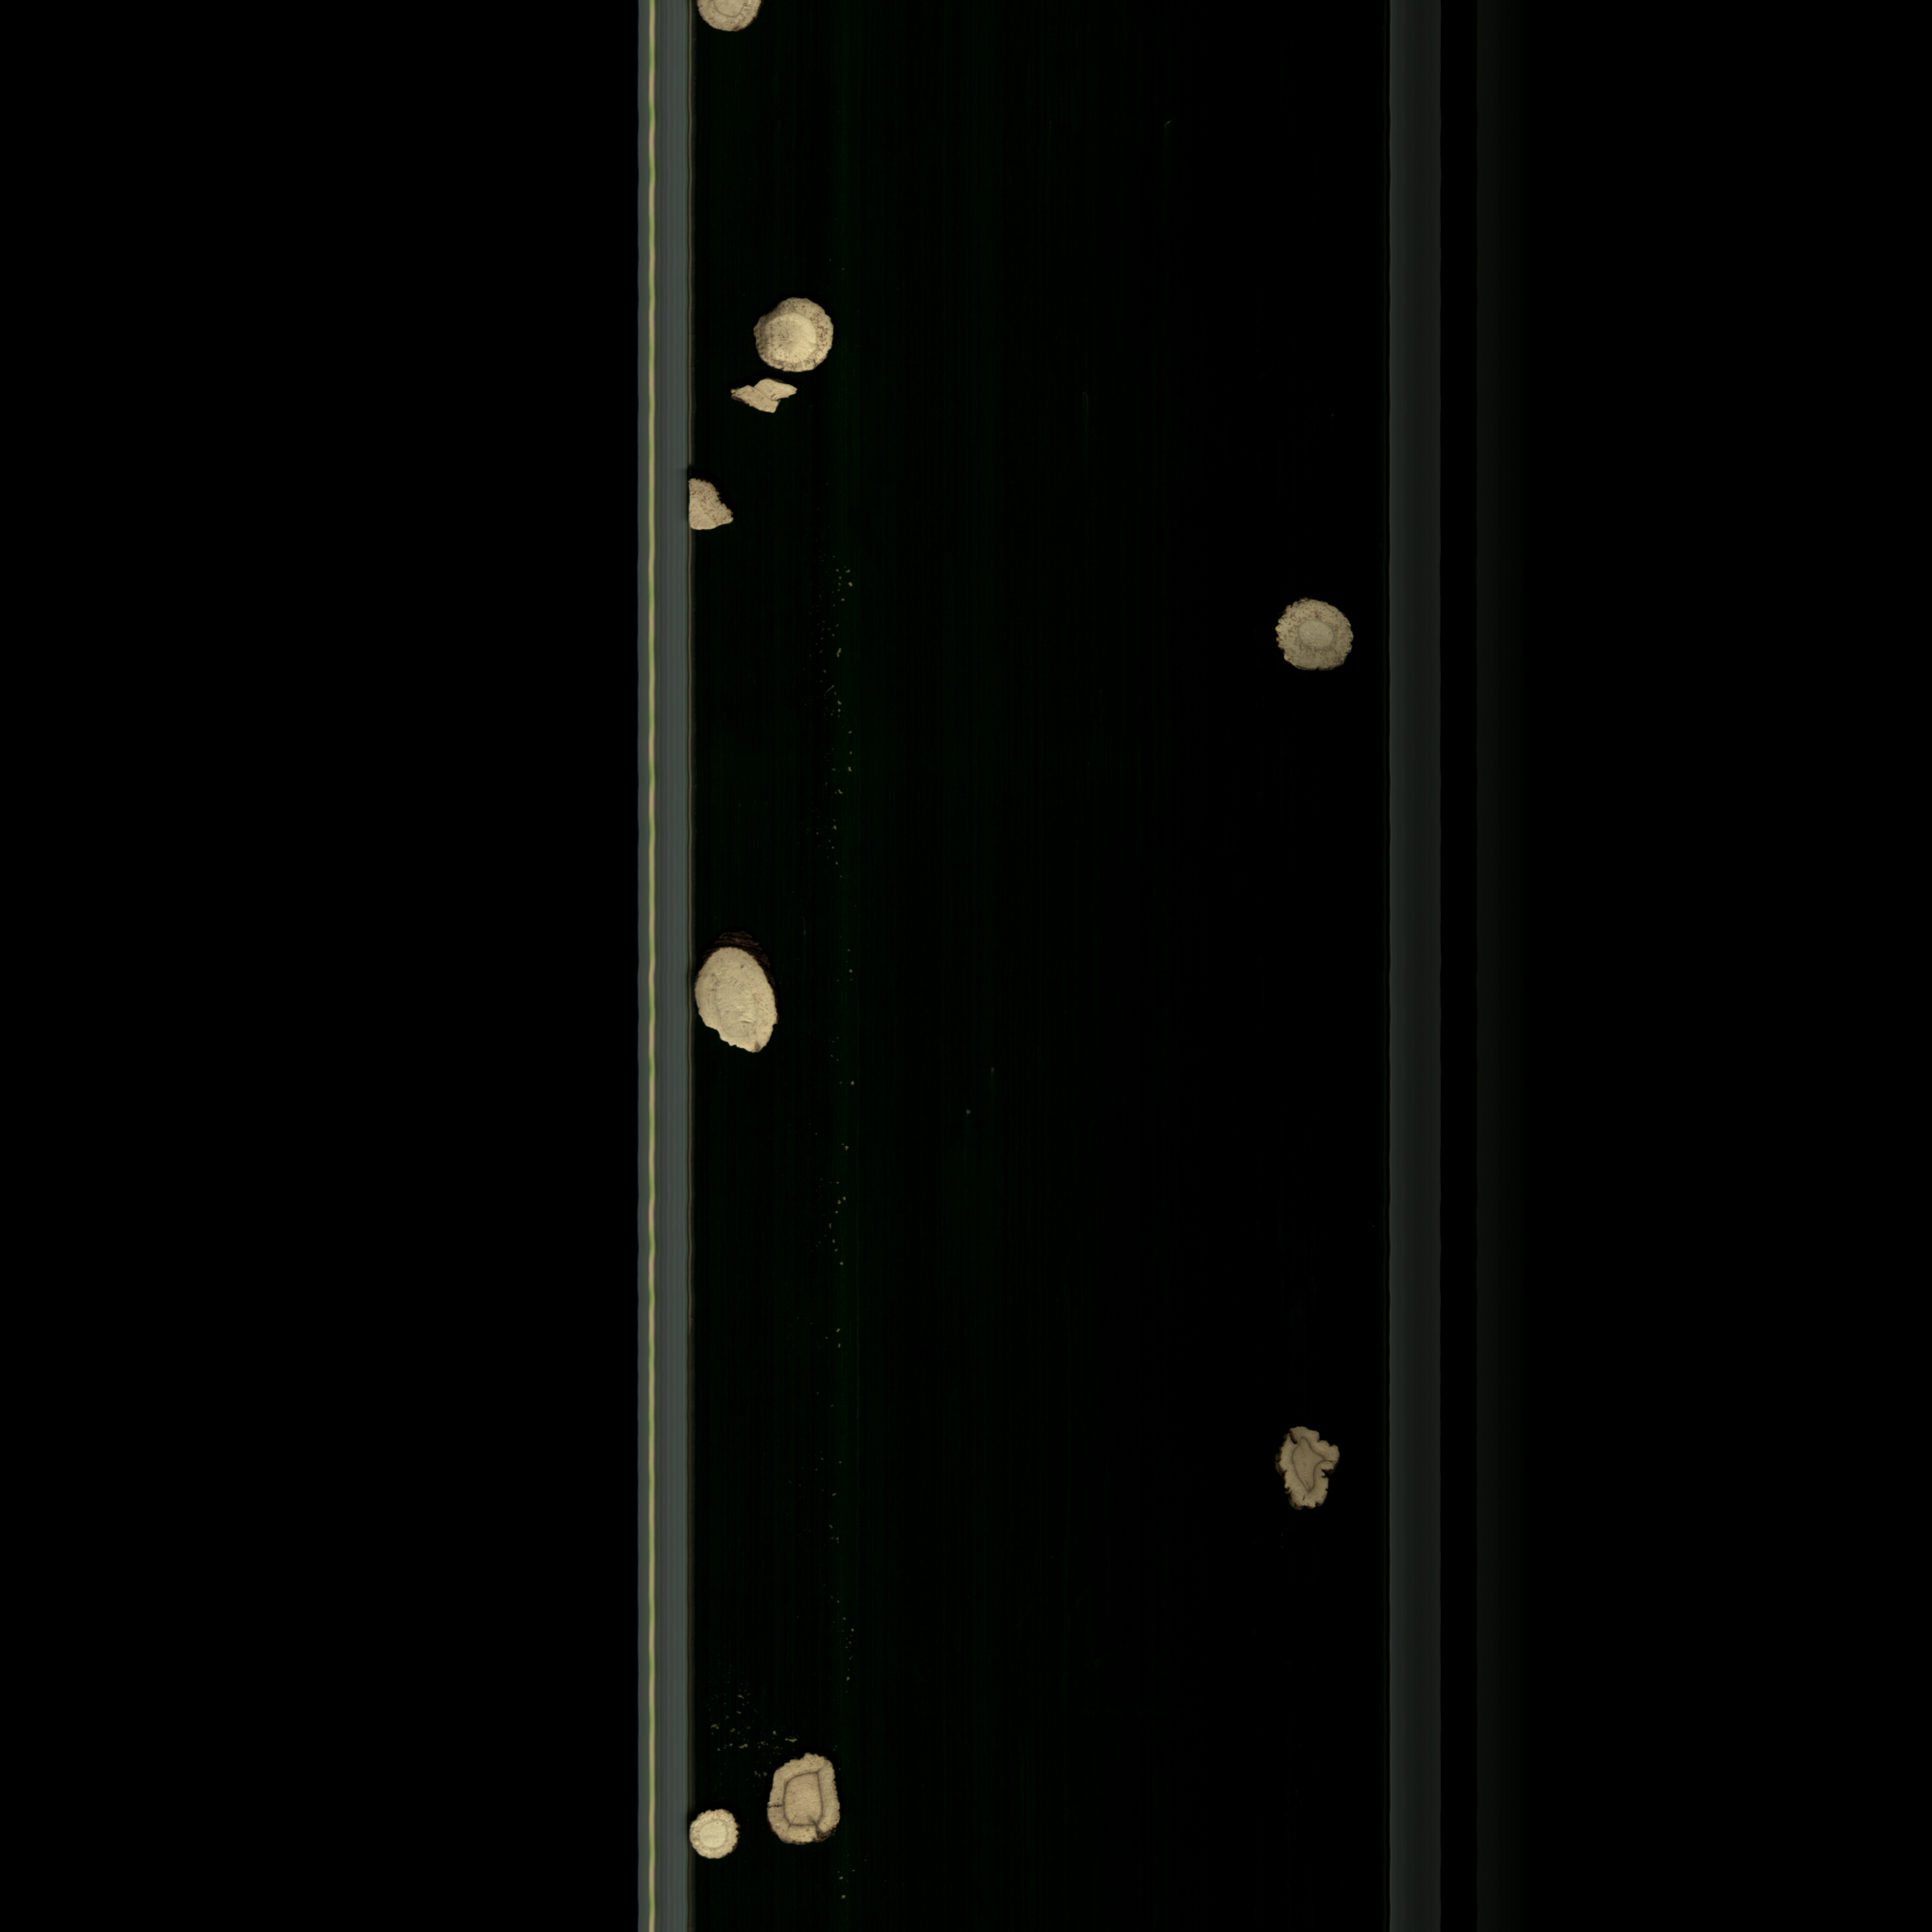debris: (686, 932, 793, 1072)
distortion: (1261, 594, 1378, 688)
dreg: (722, 366, 819, 430), (681, 467, 741, 548)
moldy: (761, 1750, 865, 1856), (741, 288, 855, 380), (1270, 1417, 1350, 1525)
